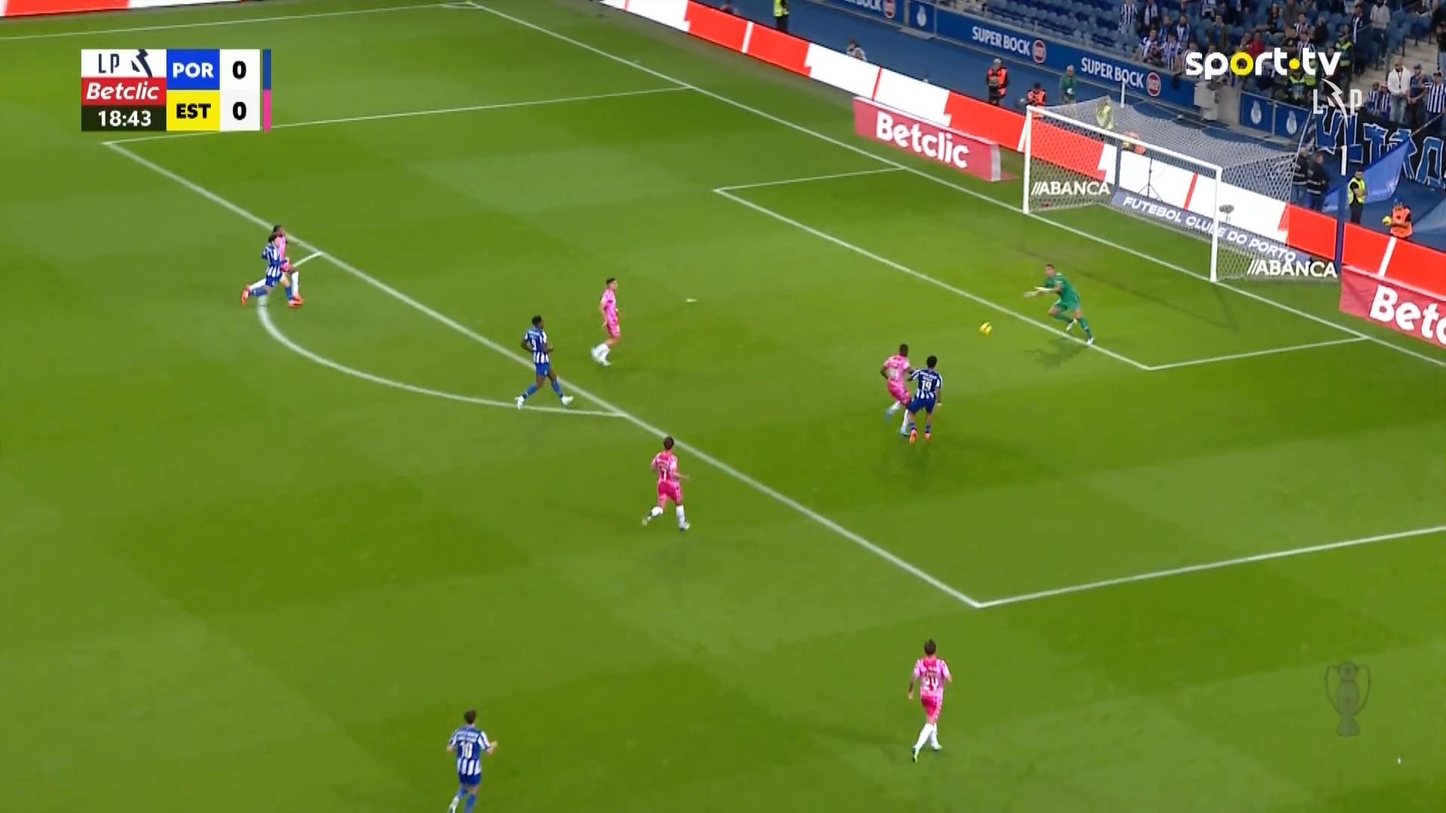ball: (978, 321, 991, 335)
goalkeeper: (1023, 262, 1096, 347)
player: (514, 314, 574, 410), (906, 638, 952, 763), (444, 708, 497, 811), (640, 434, 691, 531), (242, 236, 302, 309), (245, 225, 301, 301), (900, 355, 943, 443), (880, 342, 916, 435), (590, 276, 622, 366)
